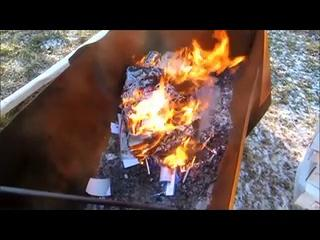Fire: (123, 49, 197, 158)
